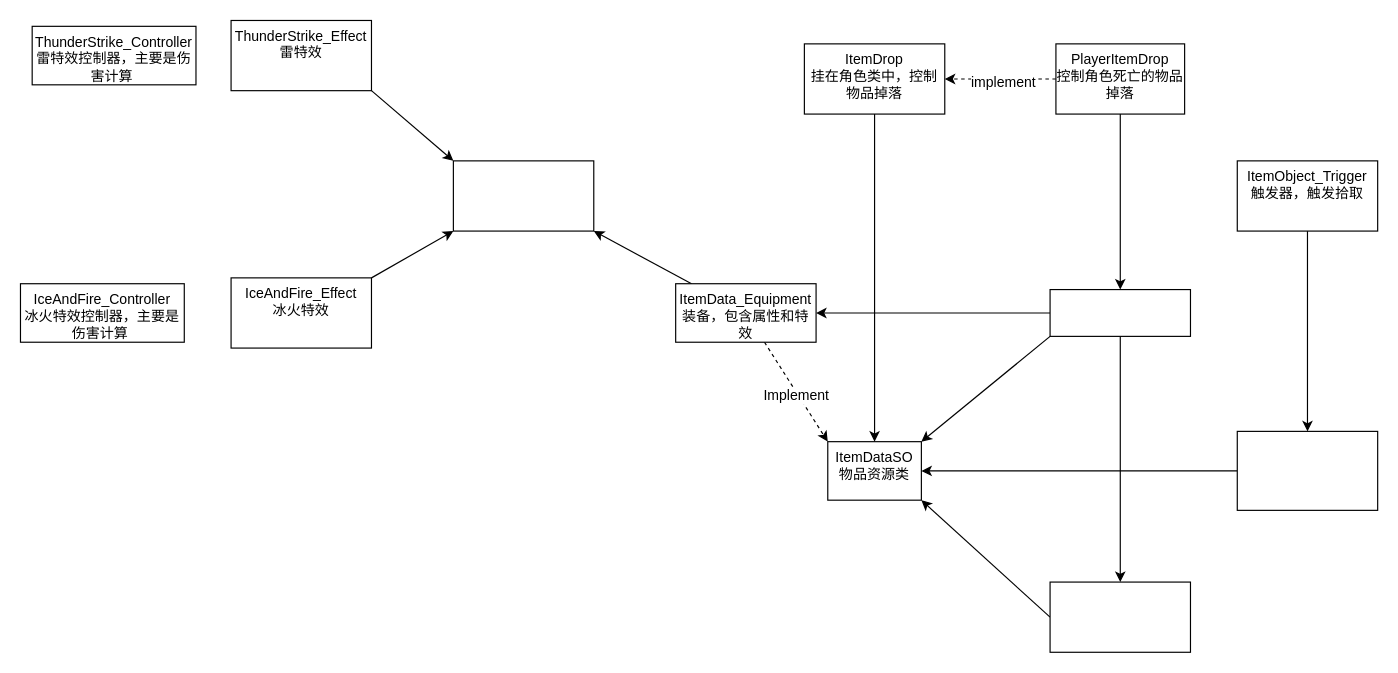
The diagram is 1398 pixels wide and 673 high, and some of its shapes have lost their labels. Each missing label, with the centre of its shape:
"Inventory<singleton> 仓库管理系统核心" belongs at (x=1119, y=312).
"InventoryItem 对资源类的封装，进行计数" belongs at (x=1119, y=616).
"ItemEffect(SO) 角色特效" belongs at (x=523, y=195).
"ItemObject 资源类的封装，实现拾取、设置项目的属性的方法" belongs at (x=1307, y=470).
